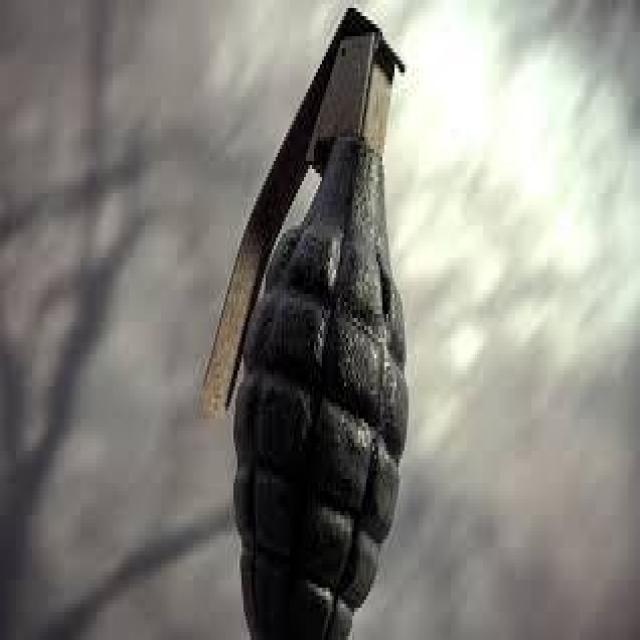Grenade: (197, 0, 411, 636)
